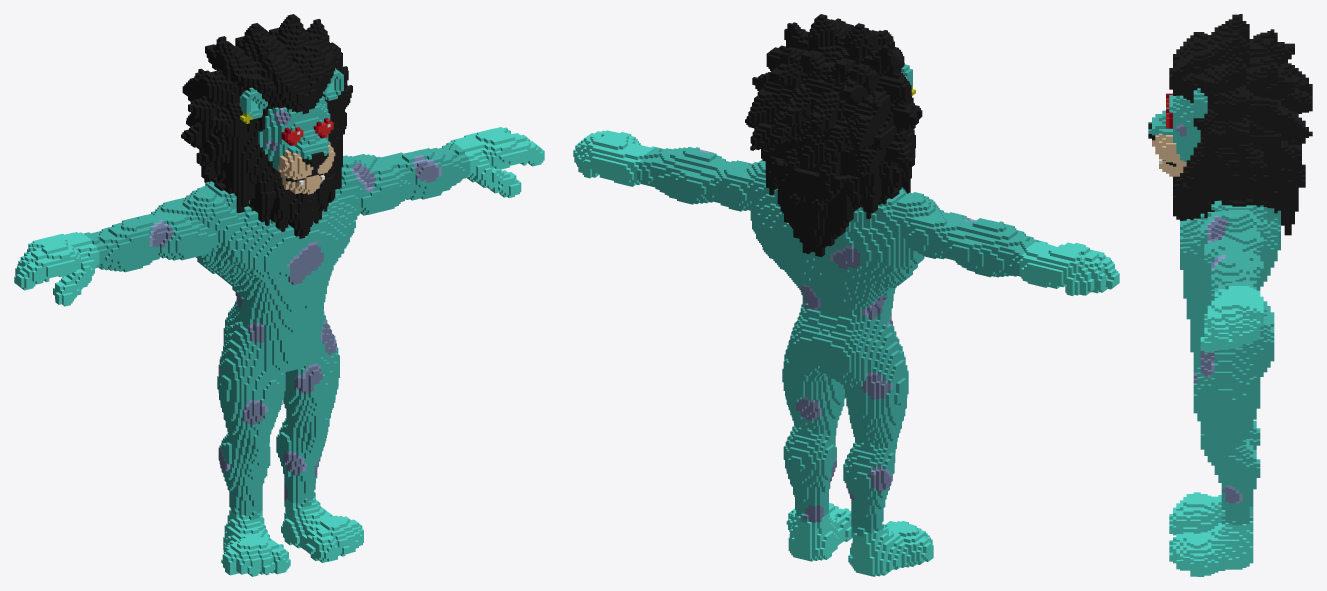
File: 13-ohdUsHsO.glb
3 views of the same model, side by side, from view 1: azimuth 30°, elevation 25°; view 2: azimuth 150°, elevation 25°; view 3: azimuth 270°, elevation 25° (orthographic). The views are drawn at different scales.
Visible parts, largest first — view 1: standard; view 2: standard; view 3: standard.
Part boxes in pixels (bbox=[...]): standard: bbox=[14, 14, 544, 576]; standard: bbox=[573, 14, 1119, 576]; standard: bbox=[1148, 14, 1312, 576].
Bounding box in the file's own units: 17.2 × 16.5 × 4.7.
Materials: 5 (5 with a texture image).
